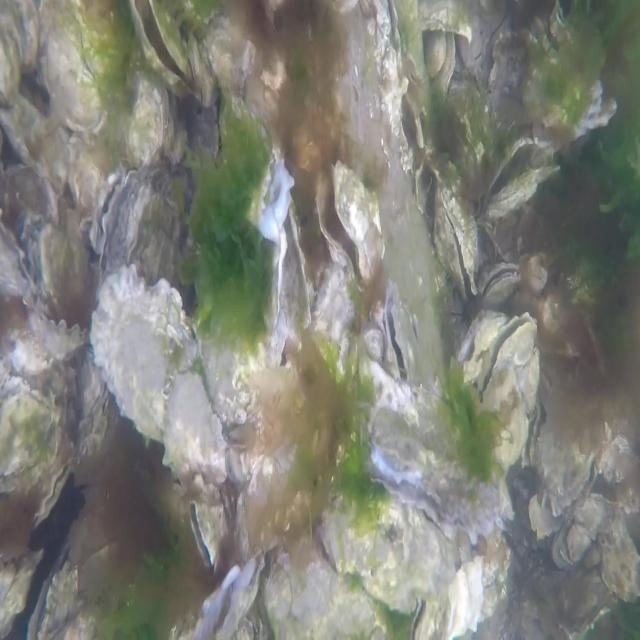Oyster-Closed: (41, 0, 128, 136), (486, 161, 561, 220), (33, 456, 74, 531), (37, 308, 91, 358)
Oyster-Indeterminate: (91, 262, 227, 474), (318, 489, 451, 614), (0, 377, 66, 496), (1, 91, 74, 186), (39, 217, 95, 309), (0, 0, 39, 104), (124, 82, 167, 170)
Oyster-Open: (365, 392, 502, 546), (209, 16, 295, 246), (313, 161, 385, 293), (27, 532, 107, 640), (472, 310, 538, 412), (128, 0, 194, 89), (431, 190, 479, 300), (276, 202, 310, 341), (452, 307, 509, 384), (91, 164, 137, 258), (376, 281, 412, 387), (0, 218, 40, 300), (188, 500, 226, 570), (478, 262, 520, 304)
